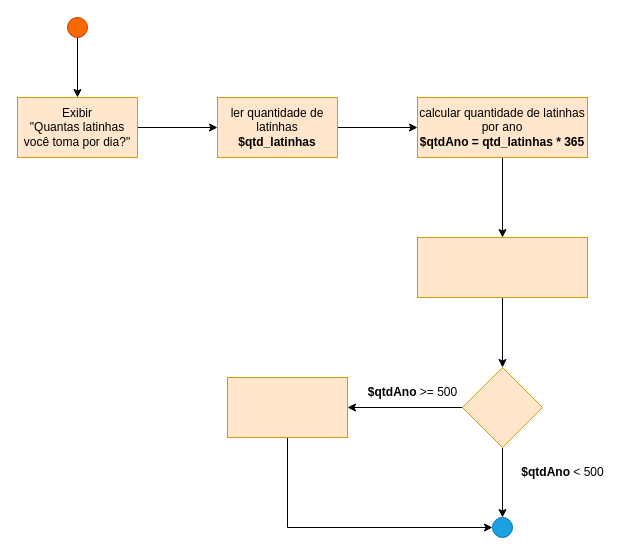
The diagram is 635 pixels wide and 555 high, and some of its shapes have lost their labels. The shapes that lost their labels are listed below. From the top down, each one's box as (x1, y1, x2, y2) in pixels, then its label:
(416, 236, 588, 298): Exibir "Você consome $qtdAno de latinhas por ano "
(226, 376, 348, 438): Exibir "Cuidado com a diabetes!"
